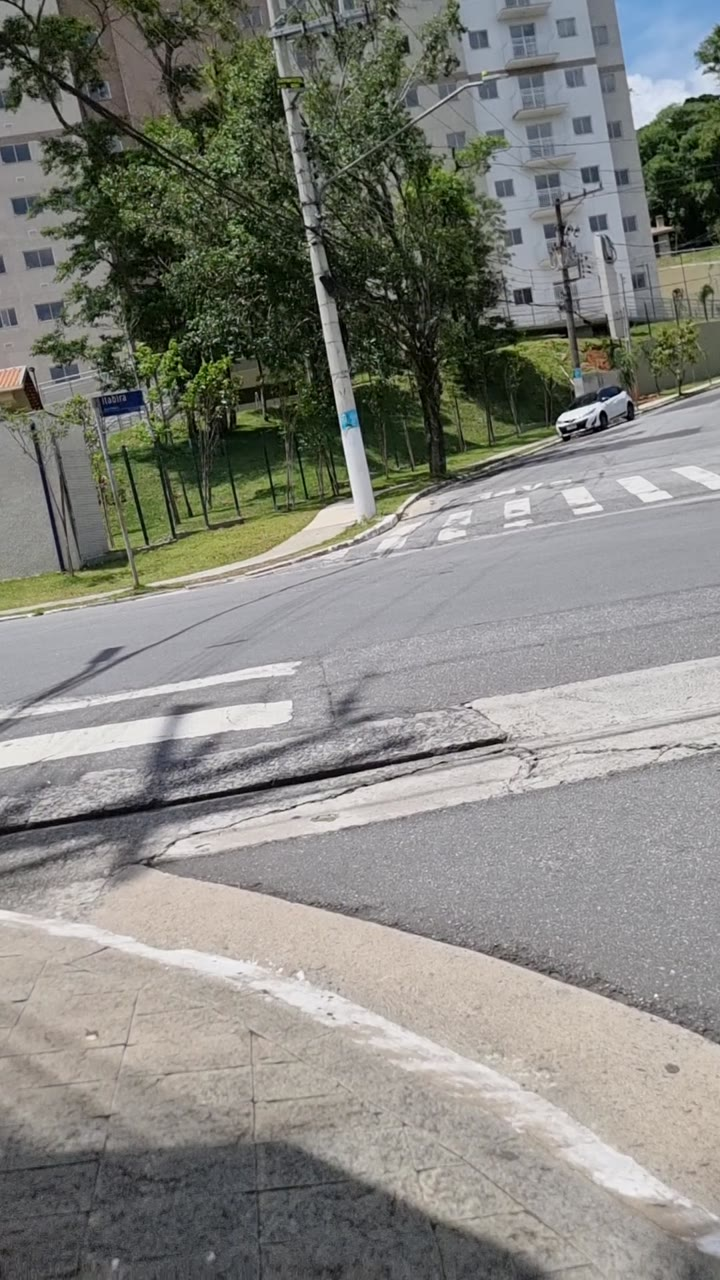desnivel: (0, 832, 720, 960)
obstaculo: (278, 79, 374, 518)
